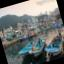fishing boat: (39, 26, 64, 58), (24, 32, 50, 58), (14, 37, 38, 60)
